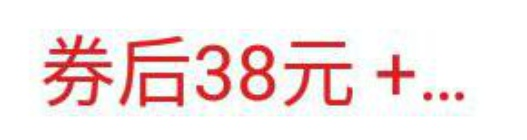TextView: (1, 1, 526, 139)
